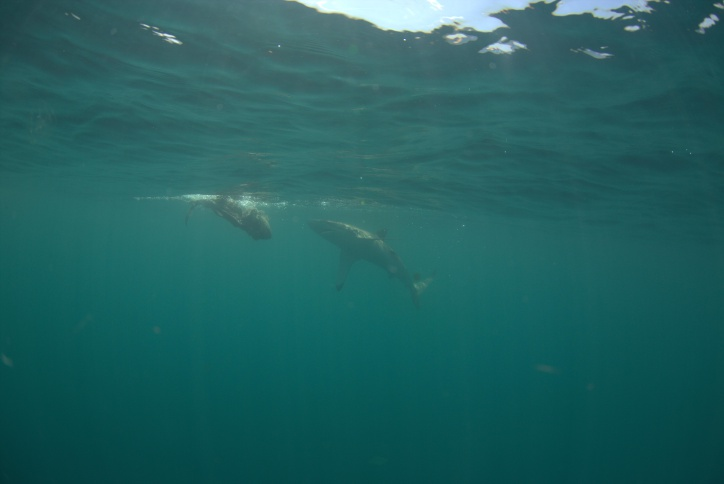Sedoso: (283, 214, 439, 315)
